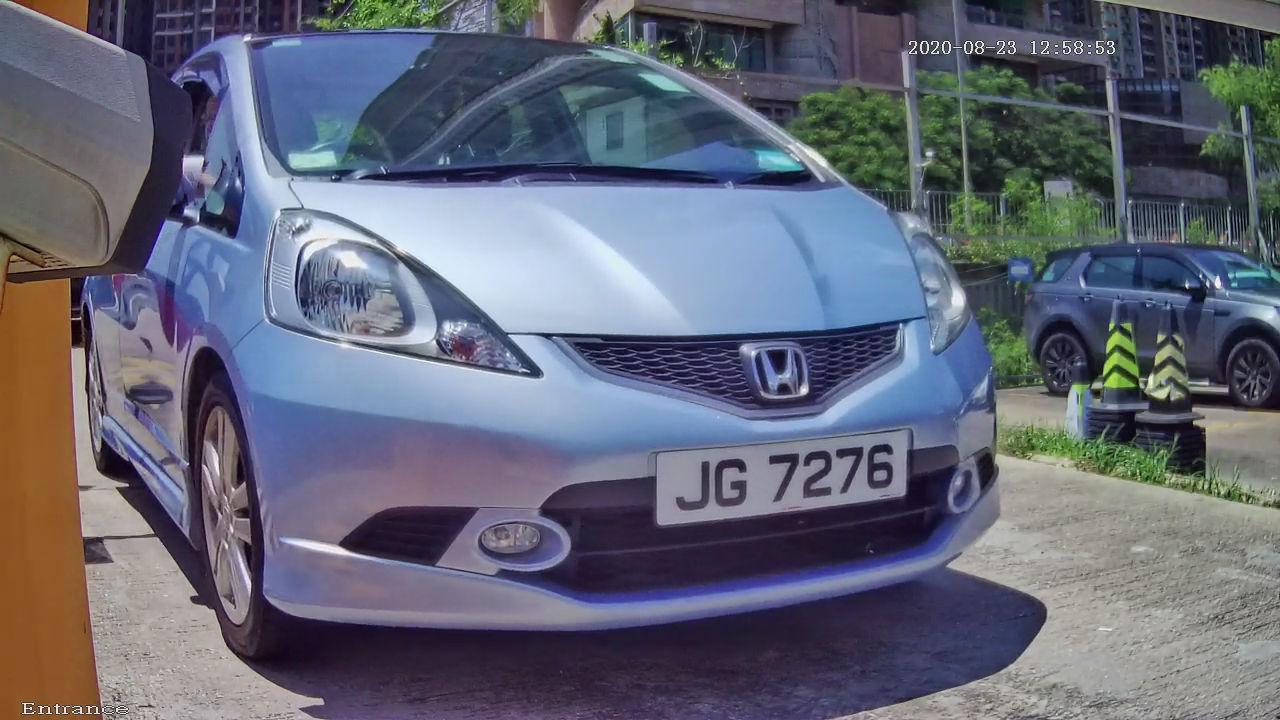Car: (58, 1, 1092, 698)
License Plate: (646, 428, 921, 528)
